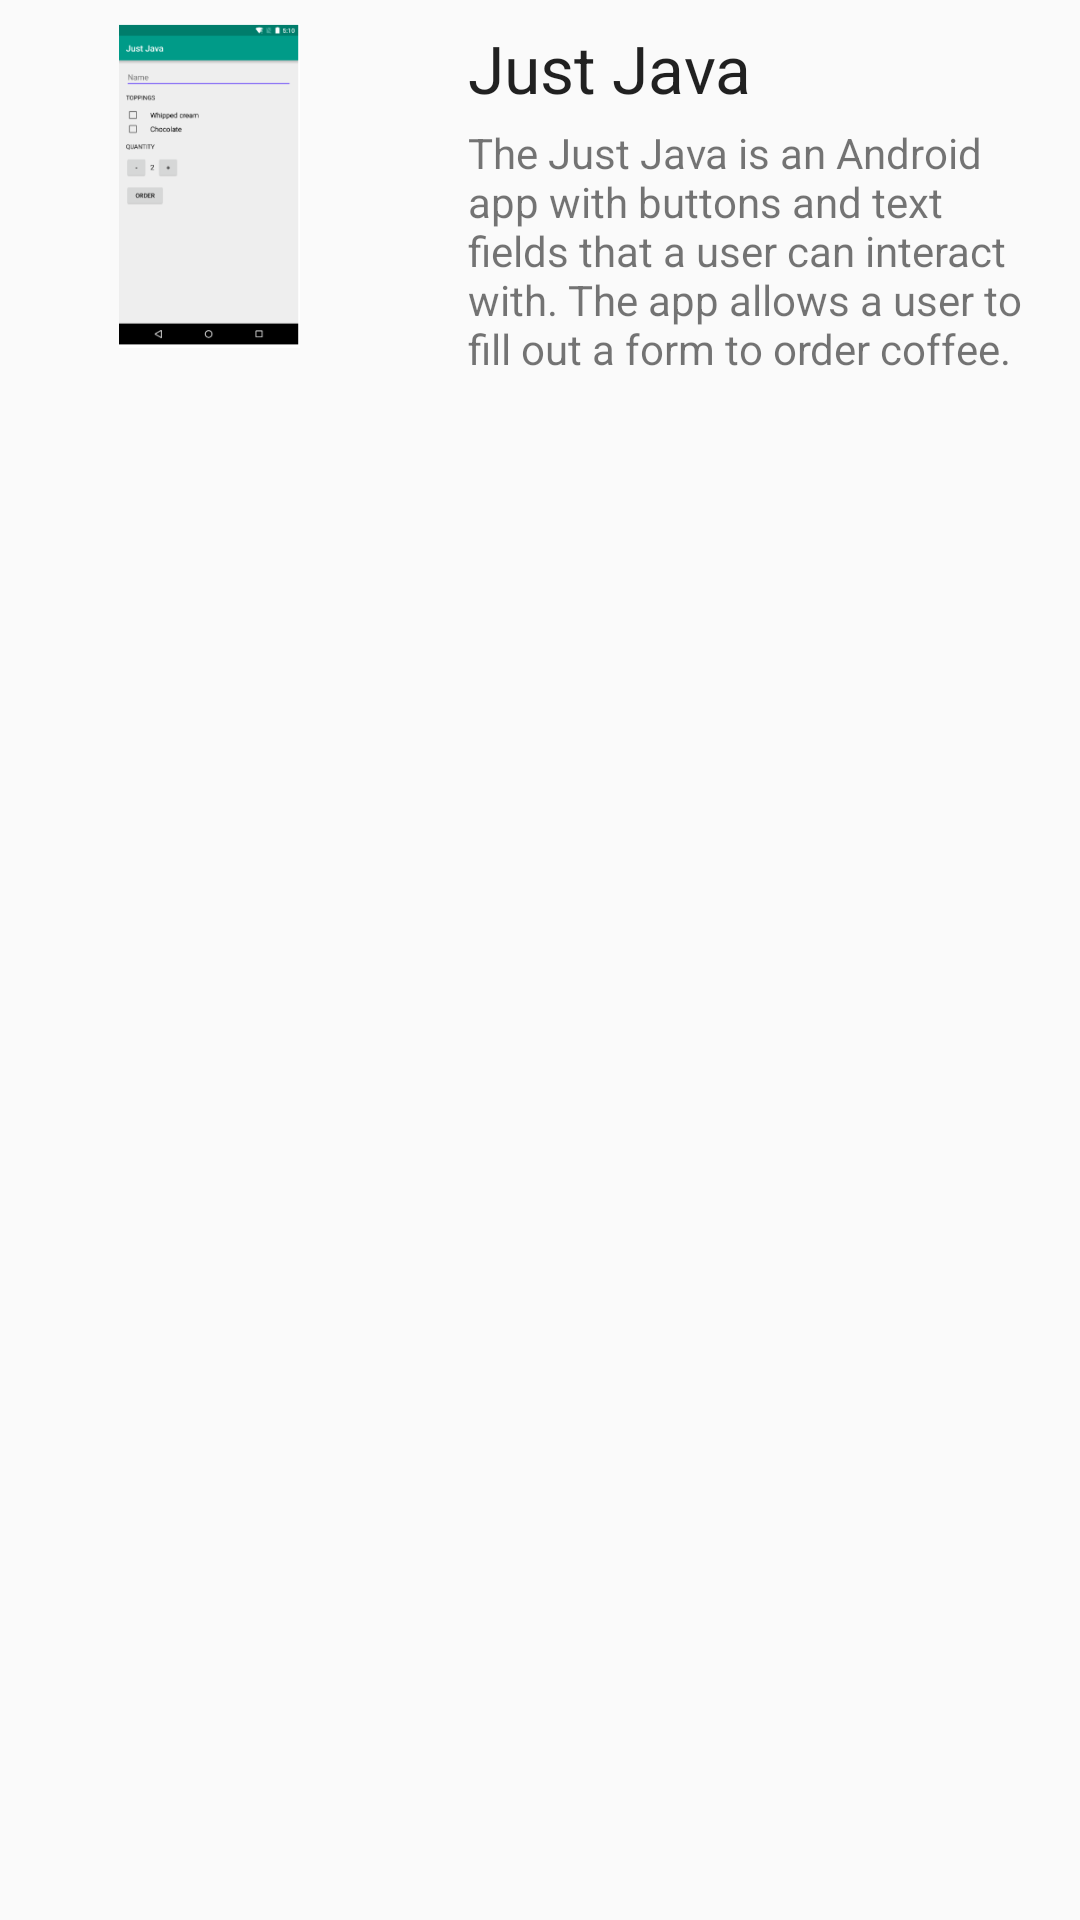

Icon click points for this 1080*1920 phone screenshot, format [x,y]:
coffee ordering app: [209,184]
